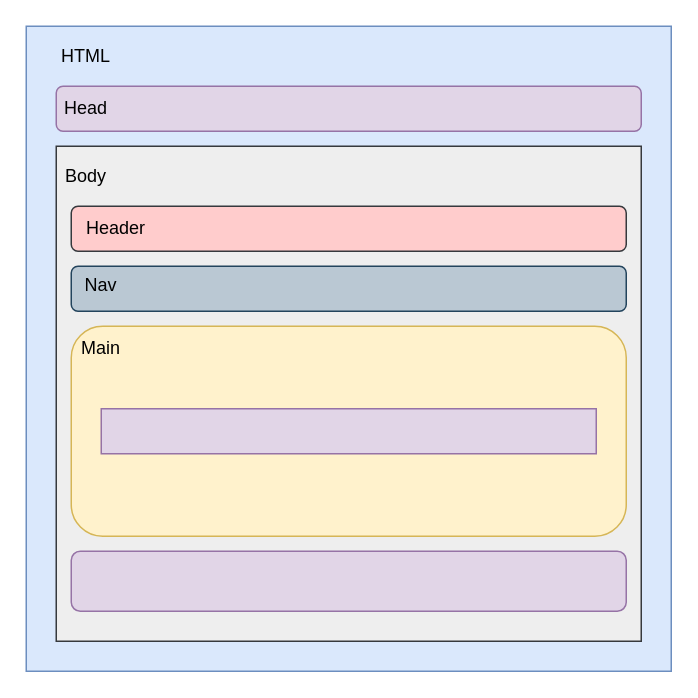
This 698x698 diagram has some shape labels left out. The centre of each missing label's shape, as x and y in pixels:
"Footer" goes at [348,580].
"Section" goes at [348,430].
